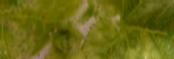Tomato leaf mosaic virus: (88, 0, 174, 59)
